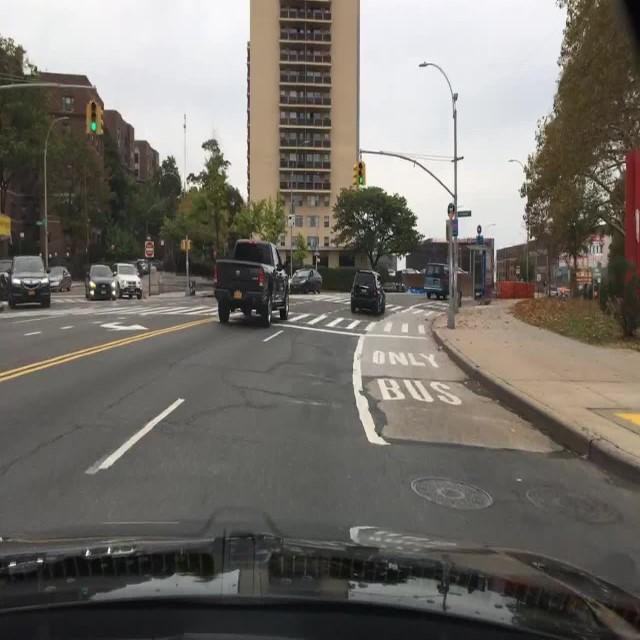normal: (193, 217, 404, 347)
